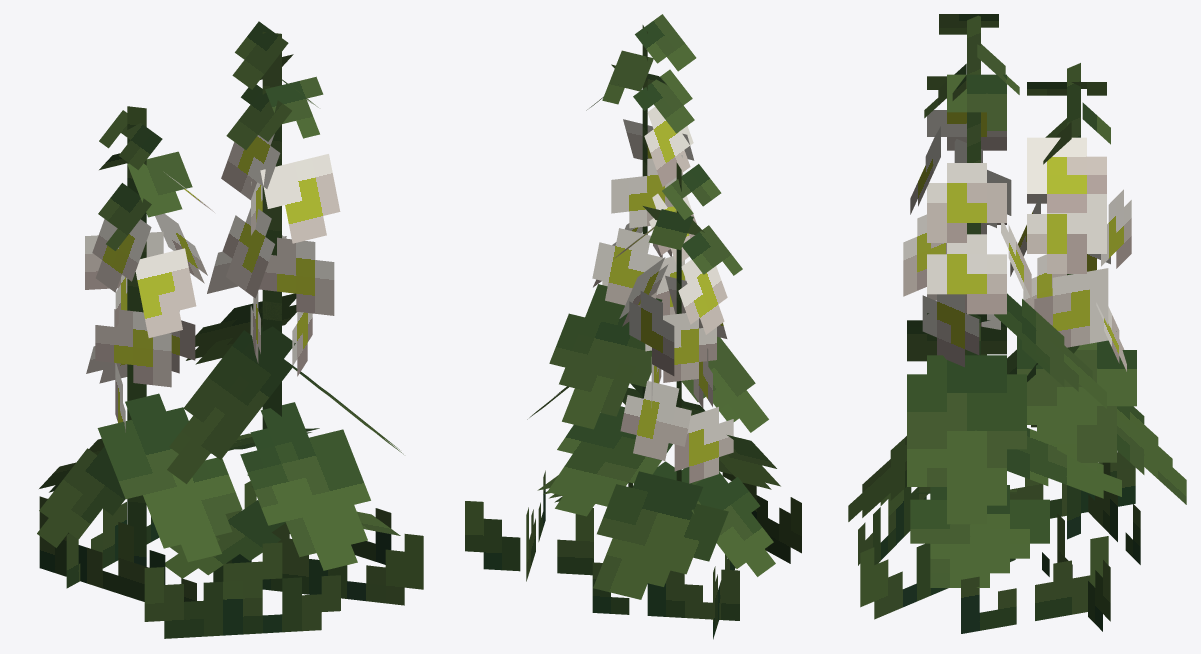
File: flower-orchid.gltf
The picture shows the model from 3 angles, left to right: view 1: azimuth 30°, elevation 25°; view 2: azimuth 150°, elevation 25°; view 3: azimuth 270°, elevation 25°; orthographic projection. The views are drawn at different scales.
Parts seen in each view (by area): view 1: cube (×34); view 2: cube (×32); view 3: cube (×38).
Part boxes in pixels (left/top/right/bottom): cube (×34): left=37, top=21, right=423, bottom=638; cube (×32): left=465, top=14, right=801, bottom=639; cube (×38): left=848, top=14, right=1186, bottom=633.
Bounding box in the file's own units: 1.1 × 1.95 × 1.06.
1 material, 1 textured.
